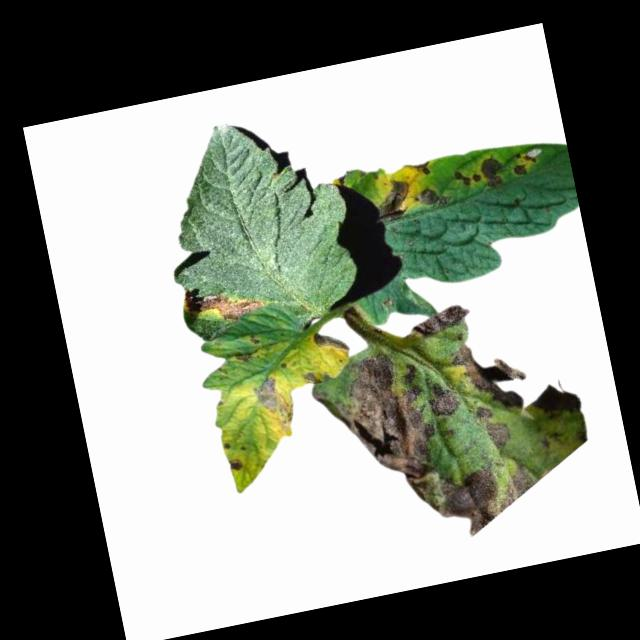Early_blight: (325, 340, 448, 491), (419, 454, 541, 545), (446, 331, 532, 419), (179, 271, 266, 329), (410, 296, 474, 341), (252, 372, 297, 429), (529, 374, 587, 417), (373, 177, 418, 225), (423, 376, 460, 421), (507, 143, 546, 177), (484, 416, 517, 456), (312, 324, 348, 355), (481, 150, 508, 190), (419, 182, 453, 211), (452, 163, 484, 191), (407, 154, 436, 179), (228, 452, 244, 472), (303, 367, 320, 385)
